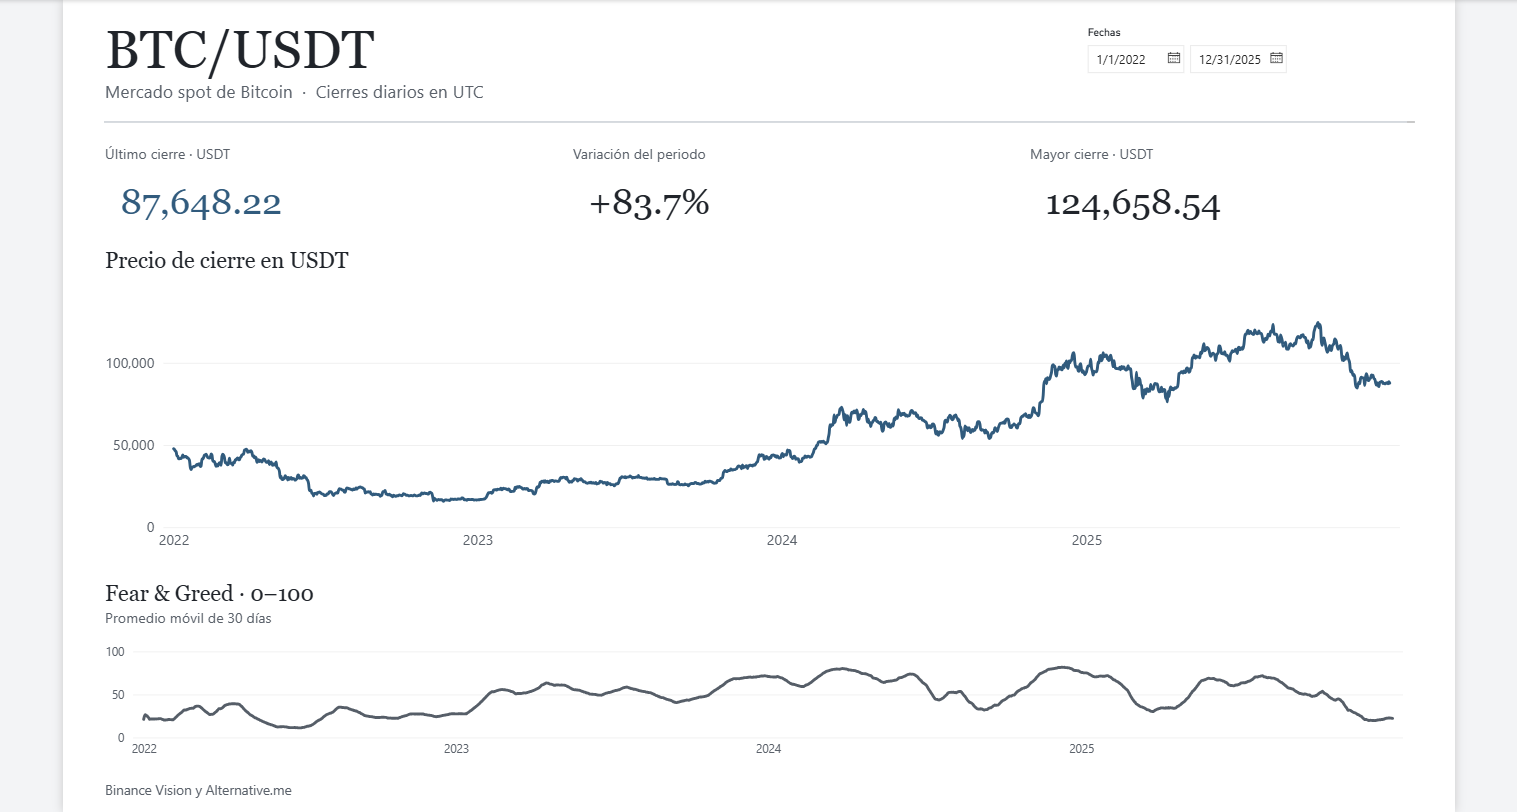

Layout of this report page (visuals, bound fields, positions):
{"tool":"powerbi","page":{"name":"Mercado","canvas":[1440,840],"ordinal":0},"visuals":[{"type":"textbox","box":[43,21,775,104],"z":1000},{"type":"slicer","fields":{"Values":["bitcoin_daily_metrics.trade_date"]},"box":[1050,20,345,88],"z":2000},{"type":"cardVisual","title":"Último cierre · USDT","fields":{"Data":["bitcoin_daily_metrics.Last Close"]},"box":[43,149,340,83],"z":3000},{"type":"cardVisual","title":"Variación del periodo","fields":{"Data":["bitcoin_daily_metrics.Selected Return"]},"box":[528,149,340,83],"z":4000},{"type":"cardVisual","title":"Mayor cierre · USDT","fields":{"Data":["bitcoin_daily_metrics.Highest Close"]},"box":[1000,149,397,83],"z":5000},{"type":"lineChart","title":"Precio de cierre en USDT","fields":{"Category":["bitcoin_daily_metrics.trade_date"],"Y":["bitcoin_daily_metrics.Daily Close"]},"box":[43,251,1355,327],"z":7000},{"type":"lineChart","title":"Fear & Greed · 0–100","fields":{"Category":["bitcoin_daily_metrics.trade_date"],"Y":["bitcoin_daily_metrics.Smoothed Sentiment"]},"box":[43,596,1355,196],"z":9000},{"type":"textbox","box":[43,807,1355,22],"z":10000},{"type":"textbox","box":[42,125,1356,2],"z":20000}]}

Visuals, with their boxes on the page's 1440x840 design canvas (x1, y1, x2, y2). These are canvas units, not pixel positions in the 1517x812 screenshot, which may show the page scaled, cropped or inside an application window:
textbox: {"x1": 43, "y1": 21, "x2": 818, "y2": 125}
slicer - bitcoin_daily_metrics.trade_date: {"x1": 1050, "y1": 20, "x2": 1395, "y2": 108}
"Último cierre · USDT" cardVisual: {"x1": 43, "y1": 149, "x2": 383, "y2": 232}
"Variación del periodo" cardVisual: {"x1": 528, "y1": 149, "x2": 868, "y2": 232}
"Mayor cierre · USDT" cardVisual: {"x1": 1000, "y1": 149, "x2": 1397, "y2": 232}
"Precio de cierre en USDT" lineChart: {"x1": 43, "y1": 251, "x2": 1398, "y2": 578}
"Fear & Greed · 0–100" lineChart: {"x1": 43, "y1": 596, "x2": 1398, "y2": 792}
textbox: {"x1": 43, "y1": 807, "x2": 1398, "y2": 829}
textbox: {"x1": 42, "y1": 125, "x2": 1398, "y2": 127}
